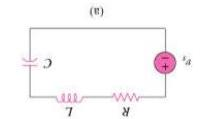inductor: (50, 88, 90, 105)
